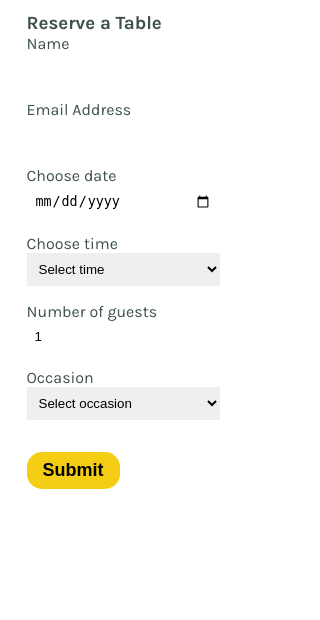
Scenario: BookingForm validation behavior › shows all required-field errors when fields are blurred empty
Note: Clear guests to trigger the “required” error
Clear the number field labelled "Number of guests". click: coordinates (123, 337)
box: [26,321,220,352]
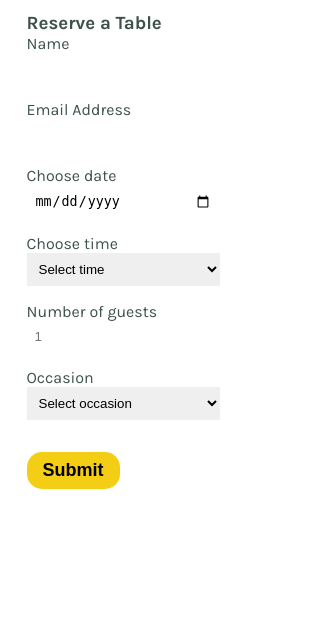
Leave the dropdown named "Select occasion type", box [26,387,220,420]
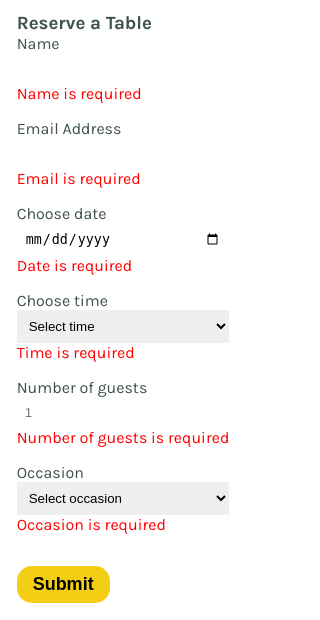
Check: the text "Name is required" is shown, box [17,84,142,103]
Check: the text "Email is required" is shown, box [17,169,141,188]
Check: the text "Date is required" is shown, box [17,256,132,275]
